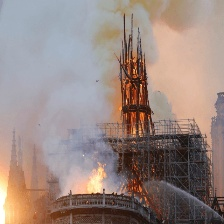fire: (126, 53, 156, 202), (85, 164, 108, 194)
smoke: (1, 1, 123, 172)
